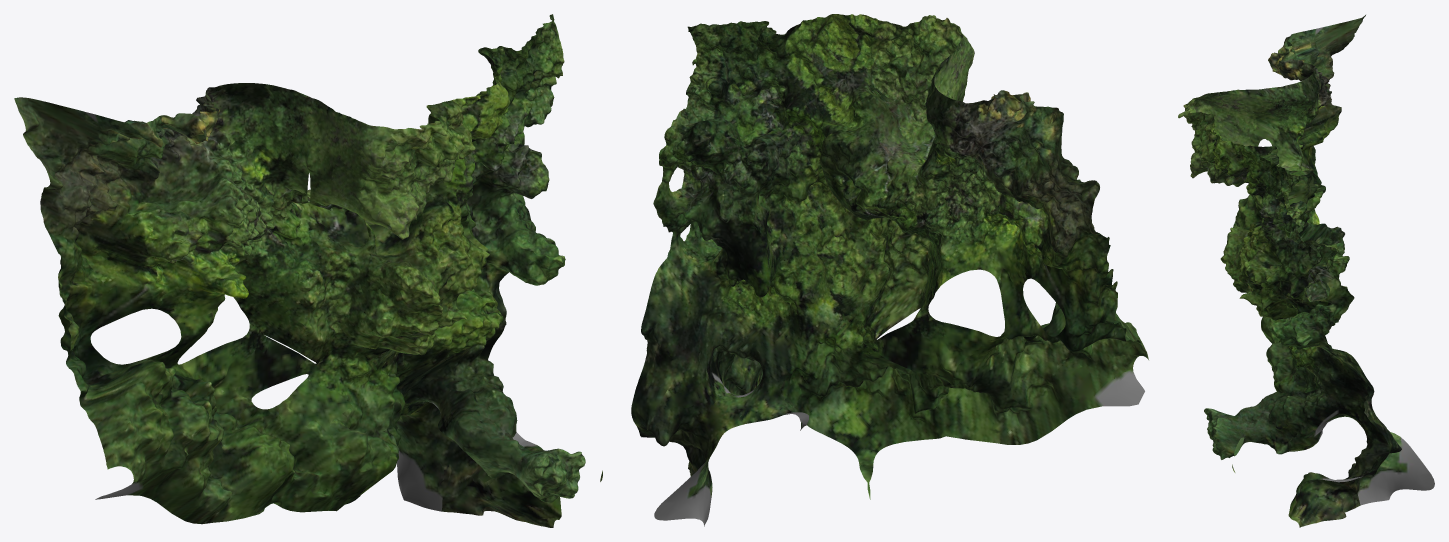
File: Tile_+001_+022.fbx
3 views of the same model, side by side, from view 1: azimuth 30°, elevation 25°; view 2: azimuth 150°, elevation 25°; view 3: azimuth 270°, elevation 25° (orthographic). The views are drawn at different scales.
Visible parts, largest first — view 1: DefaultName; view 2: DefaultName; view 3: DefaultName.
Part boxes in pixels (bbox=[...]): DefaultName: bbox=[14, 14, 602, 527]; DefaultName: bbox=[631, 14, 1148, 526]; DefaultName: bbox=[1178, 15, 1434, 527].
Size of the model in its own units: 22.54 by 22.54 by 14.98.
